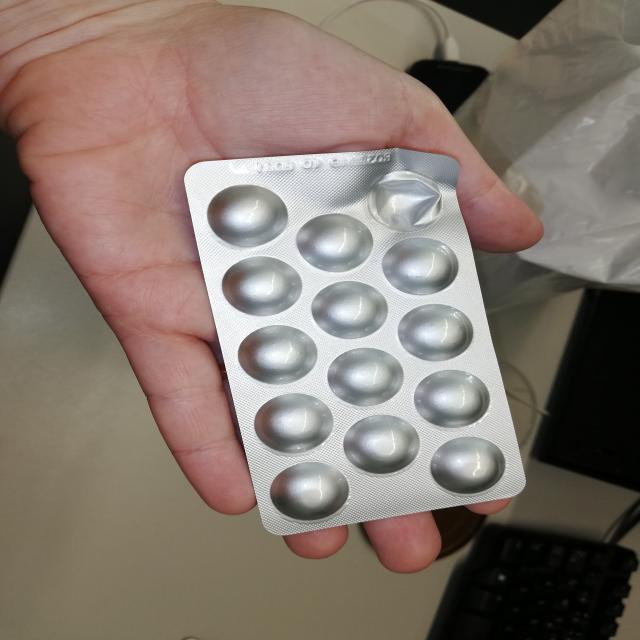Empty: (367, 169, 444, 233)
Pill: (206, 182, 290, 248), (268, 459, 352, 523), (220, 254, 303, 318), (236, 324, 320, 386), (252, 392, 335, 454), (294, 211, 374, 274), (325, 346, 406, 408), (429, 434, 507, 498), (342, 414, 422, 476), (310, 279, 389, 341), (381, 235, 459, 296), (415, 368, 491, 428), (397, 303, 473, 362)
